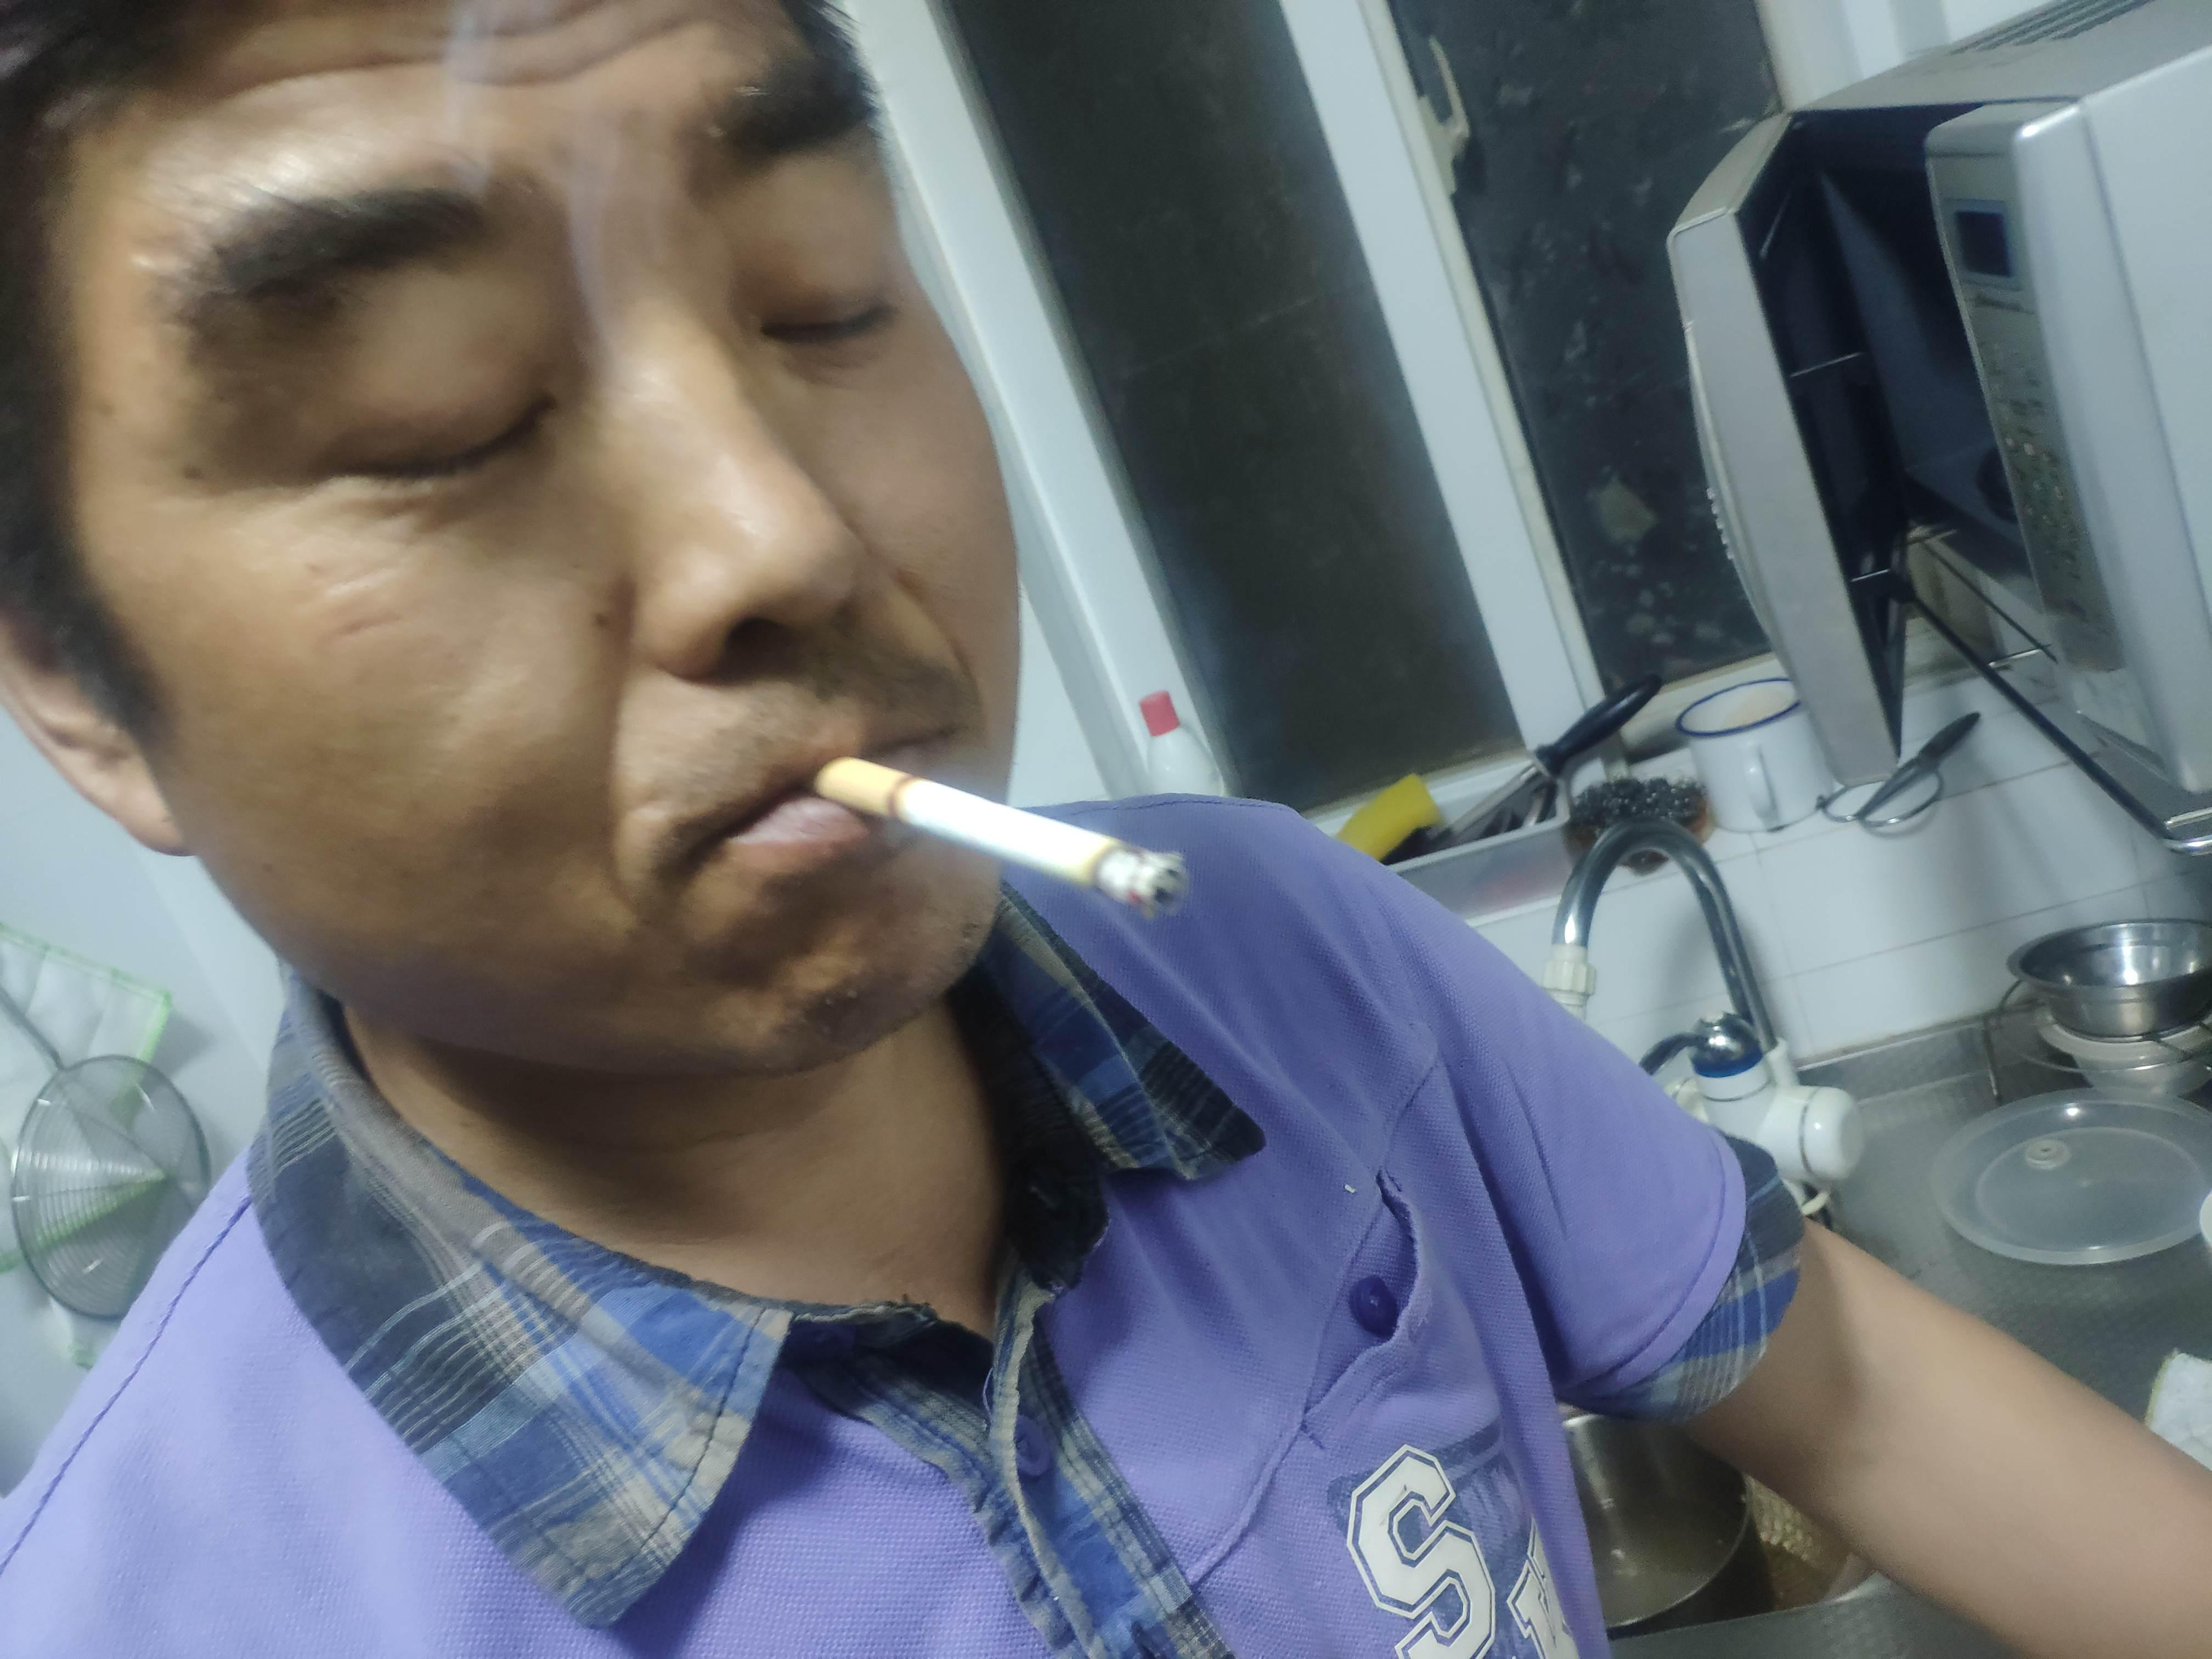smoke: (799, 749, 1193, 924)
